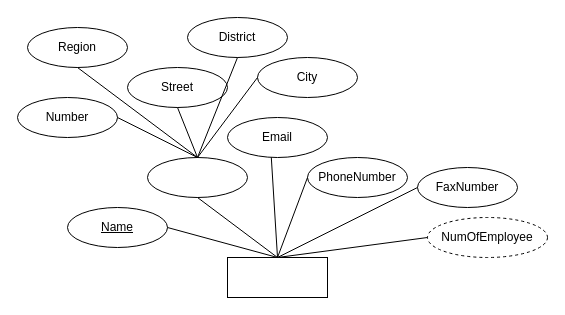
Image size: 565x315. Some labels were removed from this diagram. The shapes that lost their labels are listed below. From the top down, each one's centre as x and y in pixels, then its label:
At [197,177]: "Address".
At [277,277]: "Branch".
